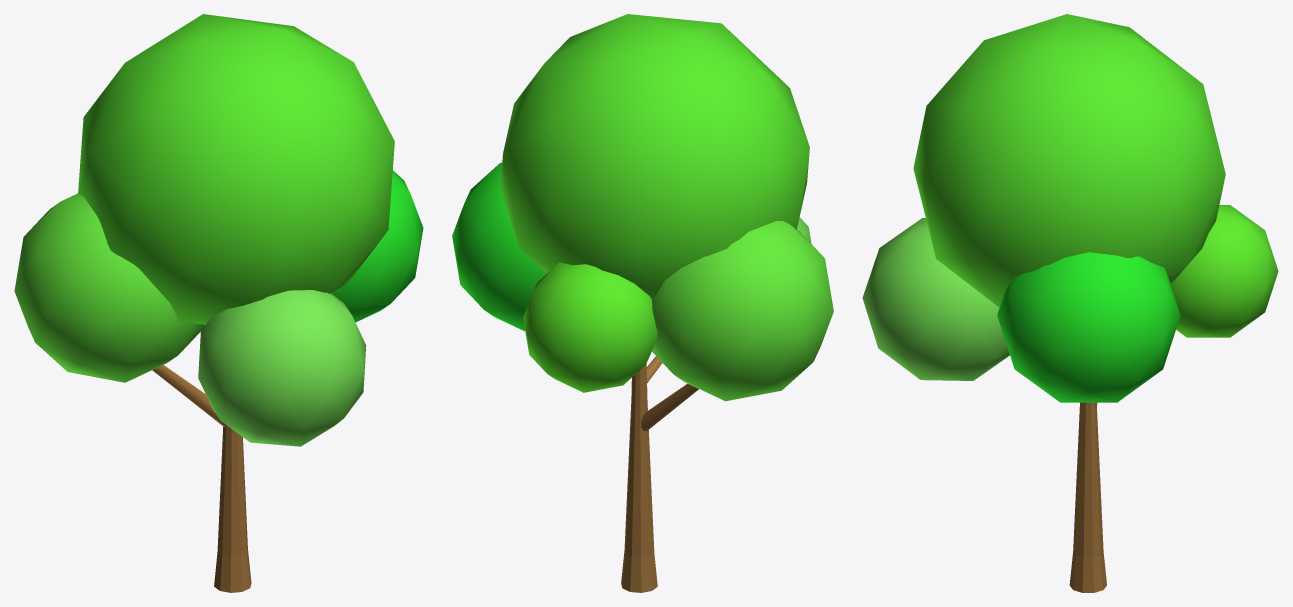
The model's file is tree0.fbx.
The picture shows the model from 3 angles, left to right: view 1: azimuth 30°, elevation 25°; view 2: azimuth 150°, elevation 25°; view 3: azimuth 270°, elevation 25°; orthographic projection. The views are drawn at different scales.
Visible parts, largest first — view 1: Tree; view 2: Tree; view 3: Tree.
Part boxes in pixels (left/top/right/bottom): Tree: left=14, top=14, right=423, bottom=592; Tree: left=452, top=14, right=833, bottom=592; Tree: left=862, top=14, right=1278, bottom=592.
Size of the model in its own units: 92.92 by 135 by 92.64.
